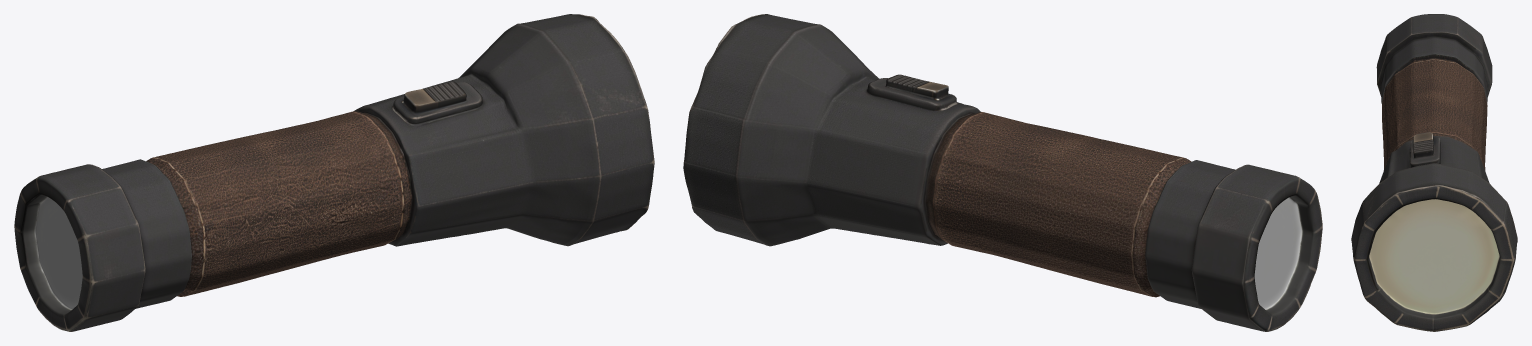
The model's file is flashlight.glb.
3 views of the same model, side by side, from view 1: azimuth 30°, elevation 25°; view 2: azimuth 150°, elevation 25°; view 3: azimuth 270°, elevation 25° (orthographic). The views are drawn at different scales.
Visible parts, largest first — view 1: tripo_node_bb65f91e; view 2: tripo_node_bb65f91e; view 3: tripo_node_bb65f91e.
Boxes of the visible parts, bbox=[...] form: tripo_node_bb65f91e: bbox=[14, 14, 654, 331]; tripo_node_bb65f91e: bbox=[683, 14, 1322, 331]; tripo_node_bb65f91e: bbox=[1351, 14, 1517, 331].
Size of the model in its own units: 98.14 by 35.32 by 35.24.
1 material, 1 textured.
